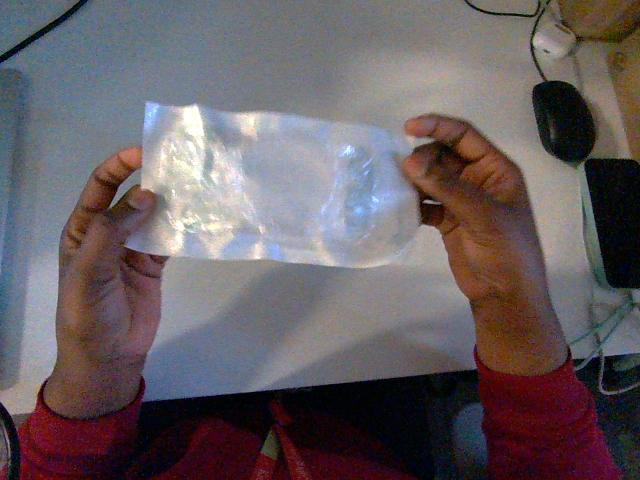gallipot: (127, 103, 418, 266)
